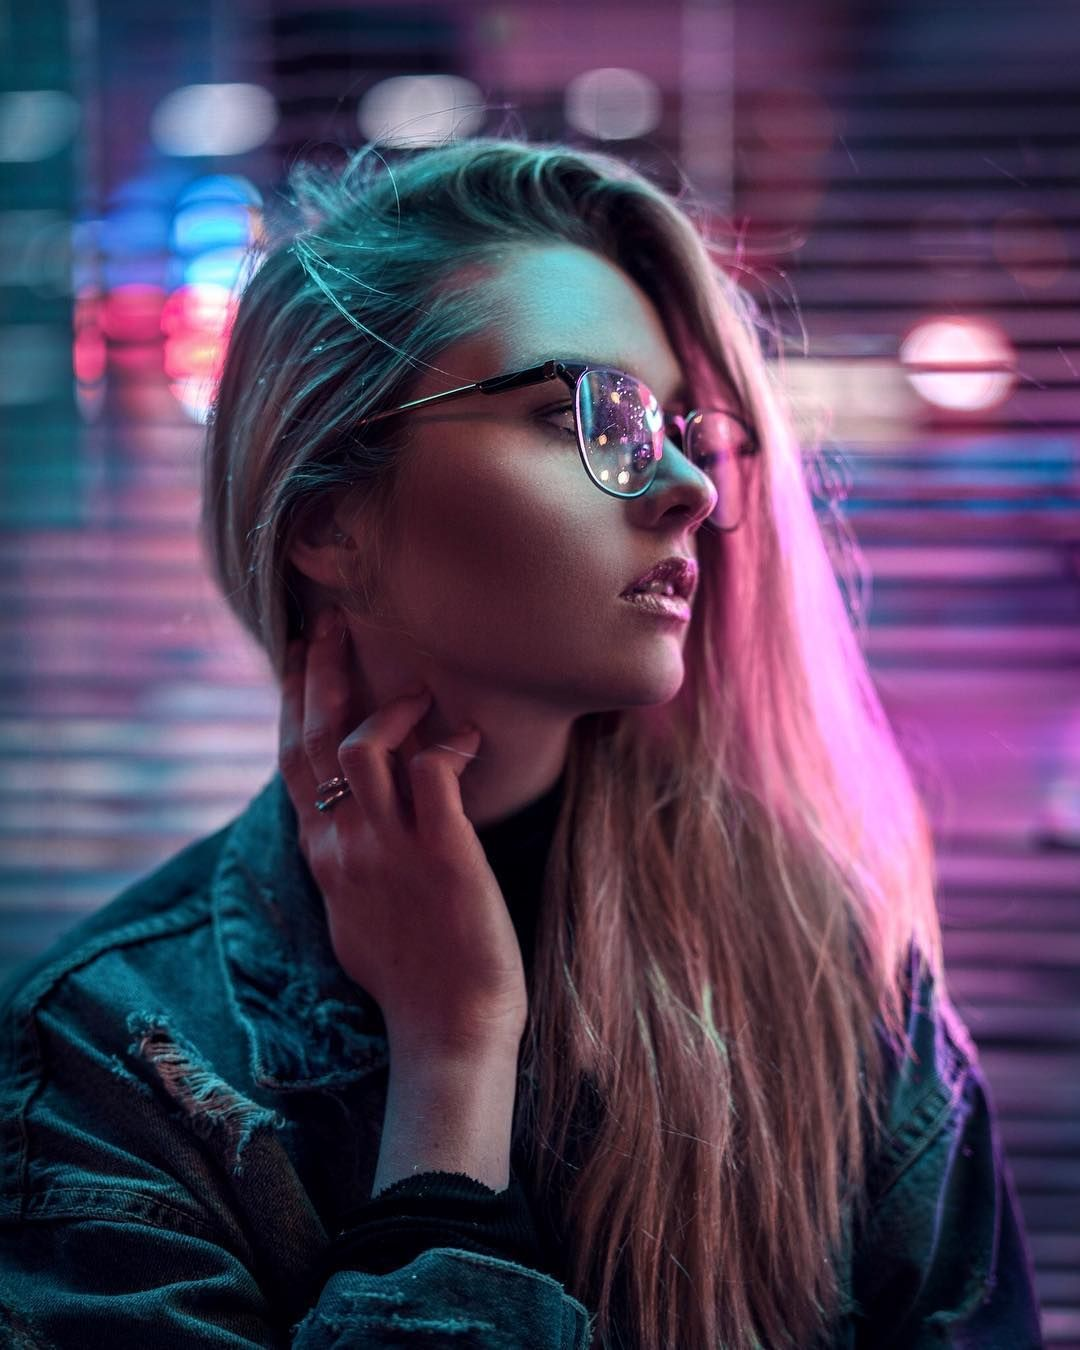bare: (395, 463, 772, 708)
